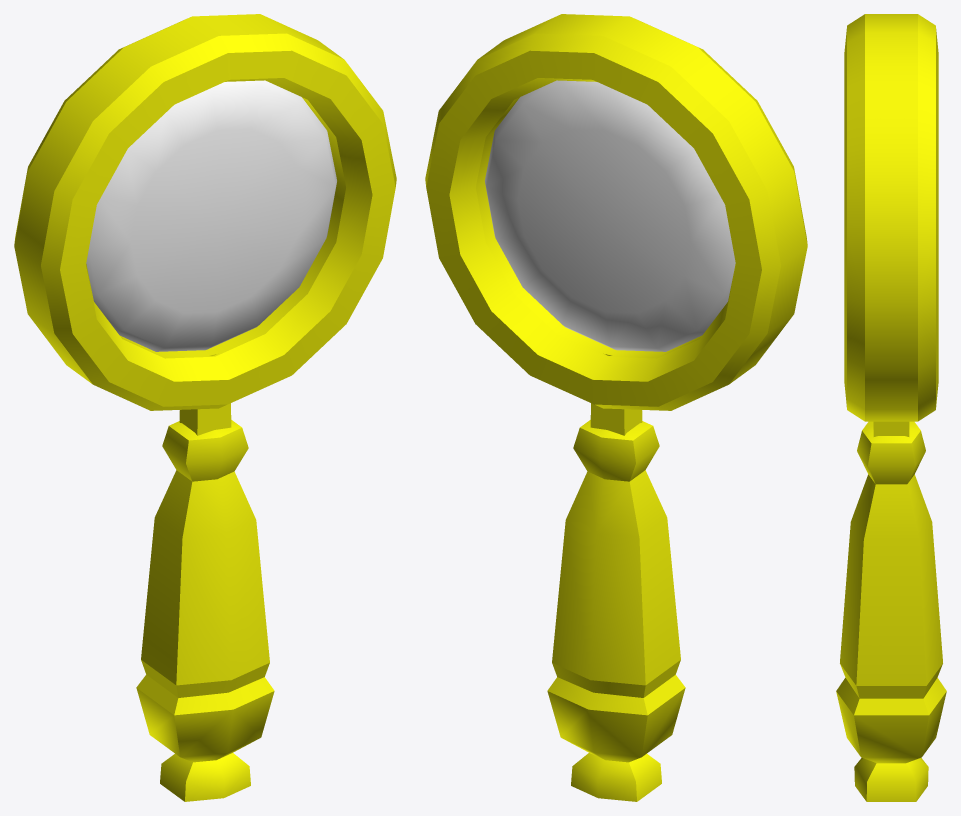
File: kaykit-magnifying-glass.glb
3 renders of one model, left to right at view 1: azimuth 30°, elevation 25°; view 2: azimuth 150°, elevation 25°; view 3: azimuth 270°, elevation 25°, orthographic.
Parts seen in each view (by area): view 1: magnifying_glass; view 2: magnifying_glass; view 3: magnifying_glass.
Part boxes in pixels (bbox=[...]): magnifying_glass: bbox=[14, 14, 396, 801]; magnifying_glass: bbox=[425, 14, 807, 801]; magnifying_glass: bbox=[836, 14, 946, 801].
Bounding box in the file's own units: 0.4629 × 0.95 × 0.1256.
